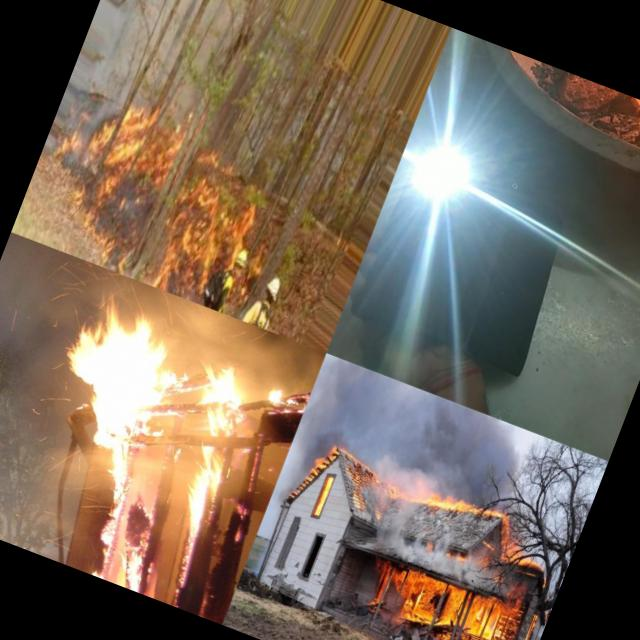fire: (42, 285, 272, 504), (78, 87, 190, 229), (138, 458, 235, 602), (66, 463, 174, 591), (150, 169, 261, 293), (357, 556, 516, 640), (390, 473, 516, 538), (252, 366, 314, 424), (304, 439, 340, 482), (310, 470, 336, 520)
smoke: (299, 355, 538, 515), (102, 270, 326, 366), (0, 234, 104, 438), (0, 402, 103, 563), (367, 499, 457, 572), (439, 554, 513, 600), (493, 604, 549, 640)
